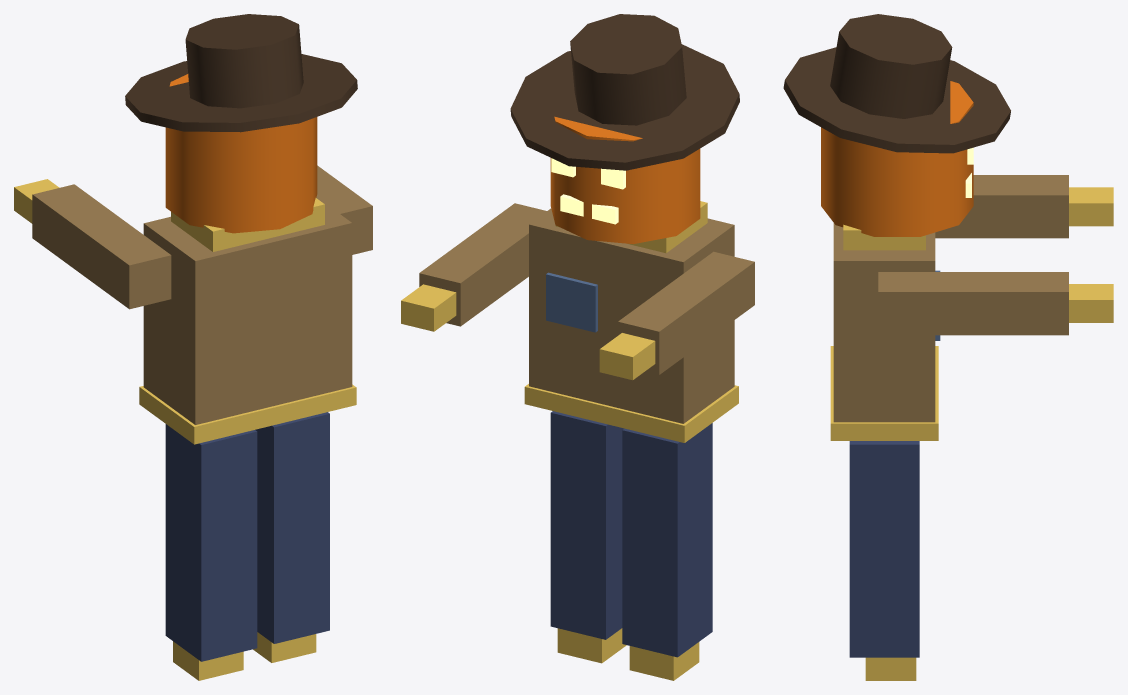
File: scarecrow.glb
3 views of the same model, side by side, from view 1: azimuth 30°, elevation 25°; view 2: azimuth 150°, elevation 25°; view 3: azimuth 270°, elevation 25° (orthographic).
Visible parts, largest first — view 1: Shirt, Trousers_L, Trousers_R, Pumpkin, Sleeve_L, HatTop, HatBrim, Rope, Sleeve_R, StrawCollar, Tuft_L, Tuft_R (+1 smaller); view 2: Shirt, Trousers_L, Trousers_R, HatBrim, HatTop, Pumpkin, Sleeve_L, Sleeve_R, Rope, Patch, Hand_L, Hand_R (+4 smaller); view 3: Trousers_R, Shirt, Pumpkin, Sleeve_R, HatBrim, HatTop, Sleeve_L, Rope, Hand_L, Hand_R, StrawCollar, Tuft_R.
Boxes of the visible parts, <box> form: Shirt: <box>143,197,352,424</box>; Trousers_L: <box>165,424,257,661</box>; Trousers_R: <box>255,412,329,643</box>; Pumpkin: <box>165,74,317,233</box>; Sleeve_L: <box>32,184,171,309</box>; HatTop: <box>185,14,303,108</box>; HatBrim: <box>125,54,357,132</box>; Rope: <box>139,384,356,444</box>; Sleeve_R: <box>316,165,372,254</box>; StrawCollar: <box>171,198,324,251</box>; Tuft_L: <box>173,641,243,680</box>; Tuft_R: <box>253,632,316,662</box>; Shirt: <box>529,208,734,423</box>; Trousers_L: <box>622,423,712,657</box>; Trousers_R: <box>550,411,624,639</box>; HatBrim: <box>510,44,739,170</box>; HatTop: <box>570,14,686,125</box>; Pumpkin: <box>550,116,700,244</box>; Sleeve_L: <box>618,251,754,374</box>; Sleeve_R: <box>419,203,546,326</box>; Rope: <box>524,384,738,442</box>; Patch: <box>546,272,597,332</box>; Hand_L: <box>599,333,655,380</box>; Hand_R: <box>401,284,456,331</box>; Trousers_R: <box>849,441,919,657</box>; Shirt: <box>833,223,935,422</box>; Pumpkin: <box>821,81,973,236</box>; Sleeve_R: <box>878,272,1068,335</box>; HatBrim: <box>783,47,1010,153</box>; HatTop: <box>830,14,952,118</box>; Sleeve_L: <box>935,175,1068,238</box>; Rope: <box>830,346,938,440</box>; Hand_L: <box>1069,187,1113,226</box>; Hand_R: <box>1069,284,1113,322</box>; StrawCollar: <box>843,224,925,250</box>; Tuft_R: <box>865,657,916,680</box>.
Size of the model in its own units: 0.87 by 2.16 by 1.04.
